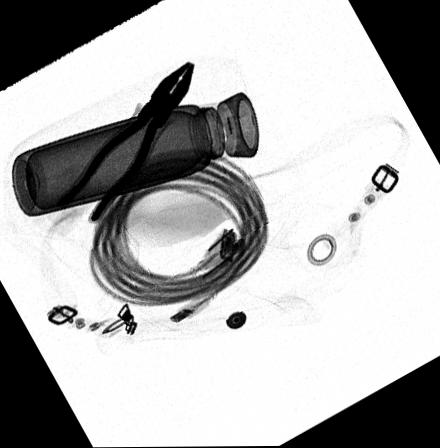Pliers: (53, 60, 194, 222)
